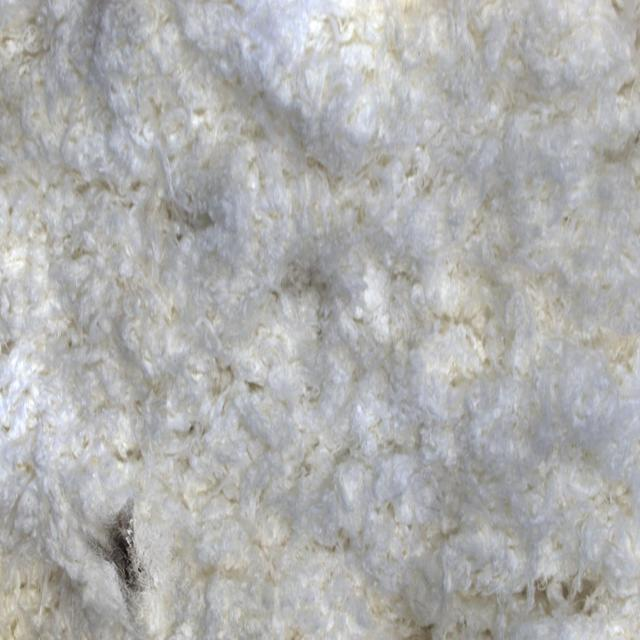dust: (43, 477, 201, 640)
